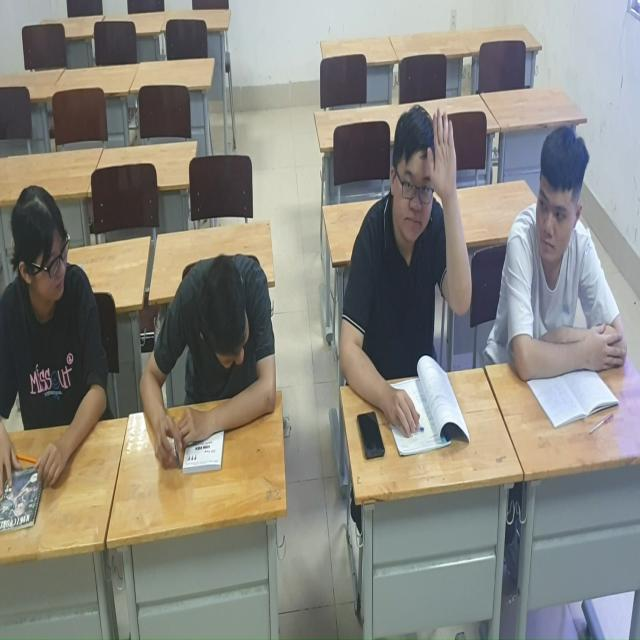raise_hand: (325, 111, 490, 455)
read: (497, 119, 613, 426), (1, 149, 115, 429)
sleep: (156, 249, 276, 468)
